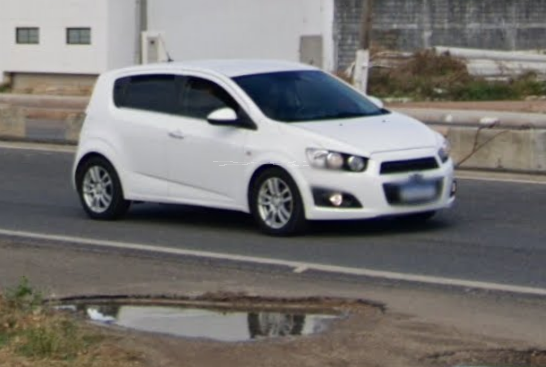car: (68, 32, 464, 238)
